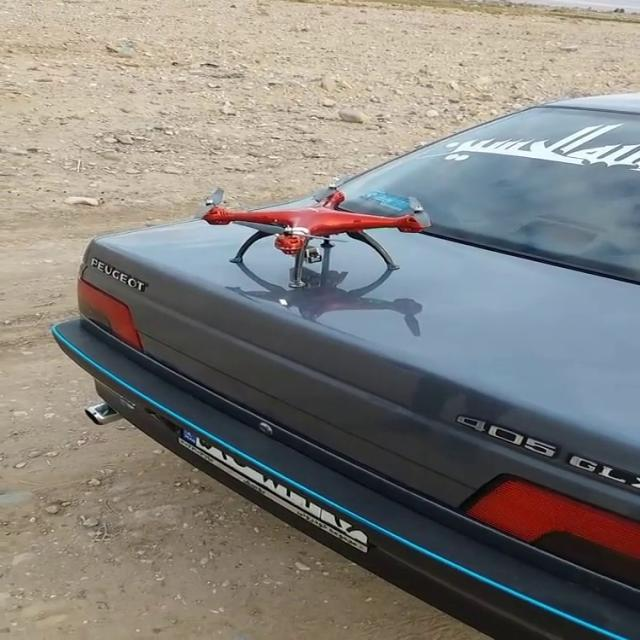drone: (191, 177, 435, 289)
